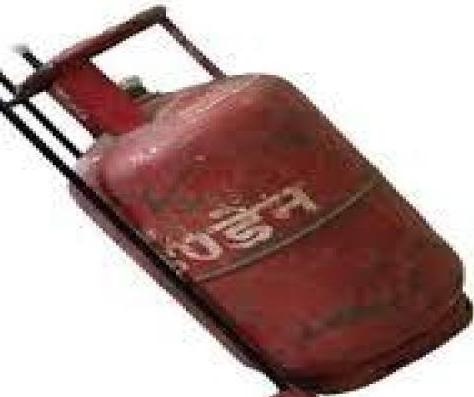cylinder: (1, 1, 474, 397)
